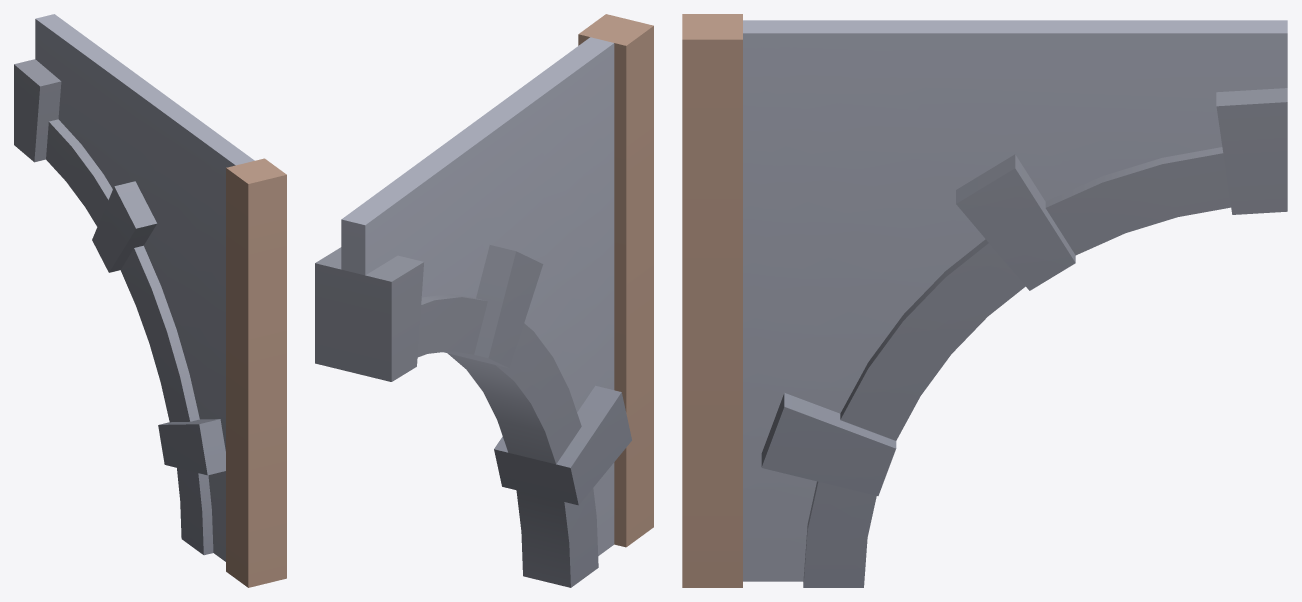
Rendered from wall-arch-top-detail.glb.
3 renders of one model, left to right at view 1: azimuth 30°, elevation 25°; view 2: azimuth 150°, elevation 25°; view 3: azimuth 270°, elevation 25°, orthographic. The views are drawn at different scales.
Parts seen in each view (by area): view 1: wall-arch-top-detail; view 2: wall-arch-top-detail; view 3: wall-arch-top-detail.
Boxes of the visible parts, x1,y1,x2,y2 form: wall-arch-top-detail: (14,14,286,587); wall-arch-top-detail: (315,14,653,587); wall-arch-top-detail: (682,14,1287,587).
Bounding box in the file's own units: 0.16 × 1 × 1.
